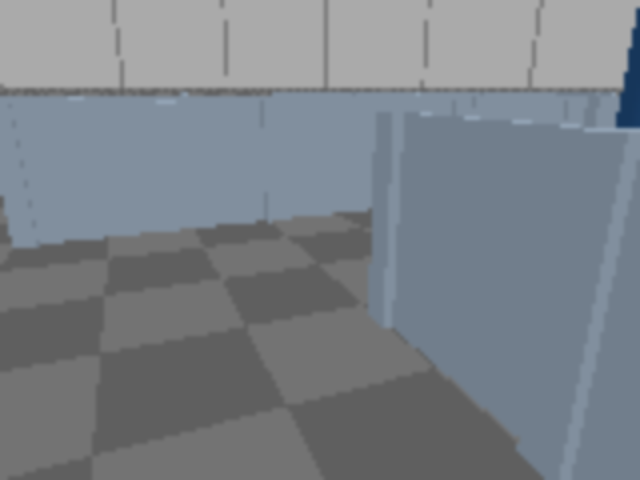person: (602, 0, 638, 448)
